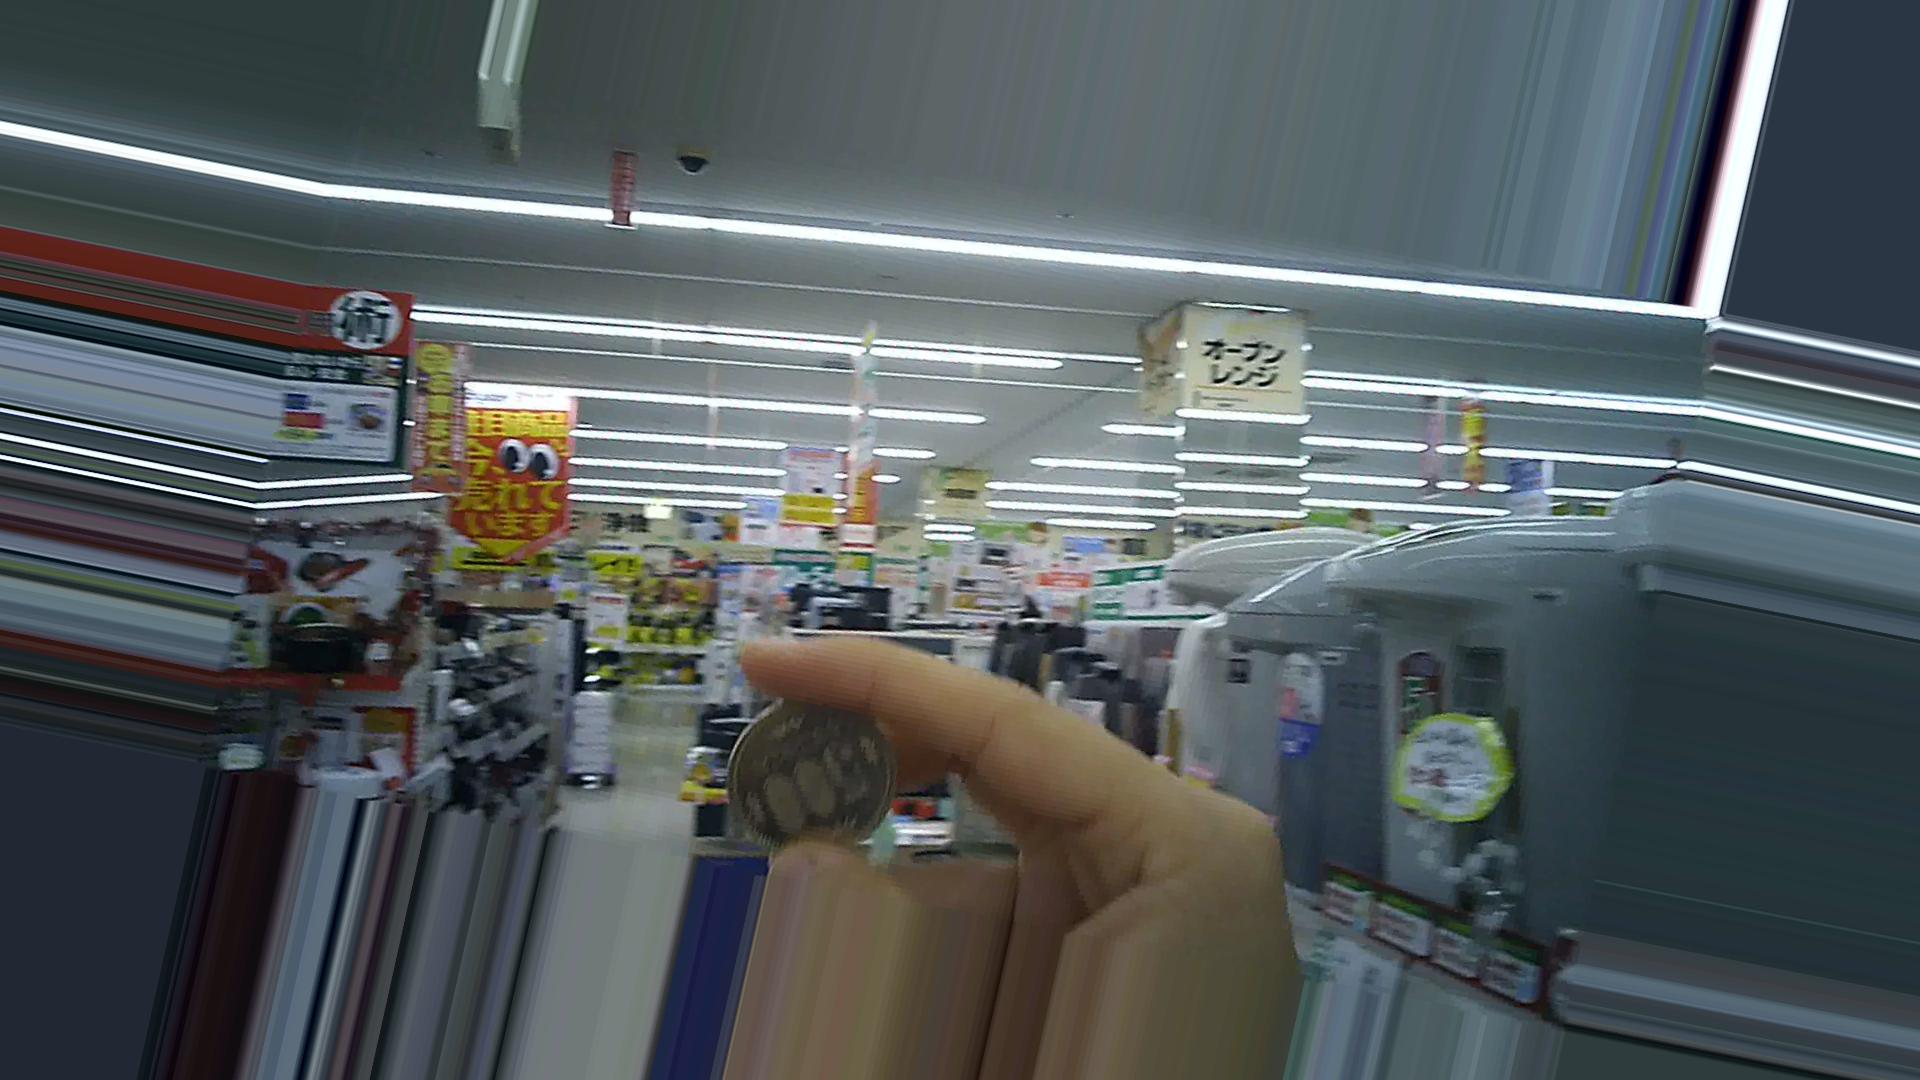500 Yen: (716, 688, 916, 853)
